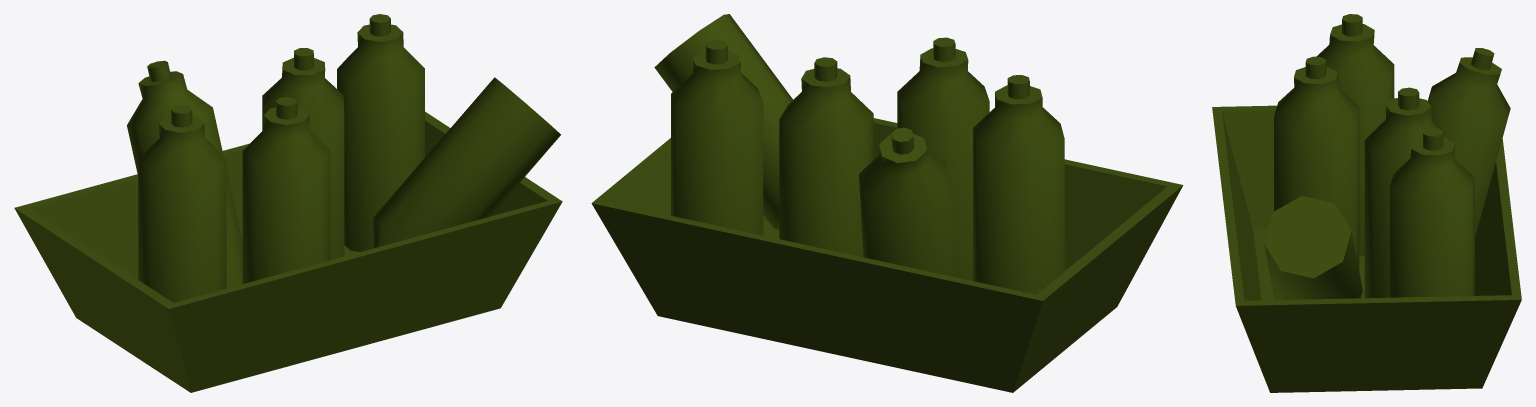
The picture shows the model from 3 angles, left to right: view 1: azimuth 30°, elevation 25°; view 2: azimuth 150°, elevation 25°; view 3: azimuth 270°, elevation 25°; orthographic projection. The views are drawn at different scales.
Visible parts, largest first — view 1: Box2; view 2: Box2; view 3: Box2.
Boxes of the visible parts, x1=… form: Box2: x1=14, y1=14, x2=562, y2=392; Box2: x1=591, y1=14, x2=1183, y2=392; Box2: x1=1212, y1=14, x2=1521, y2=392.
Size of the model in its own units: 0.1953 by 0.1006 by 0.117.
